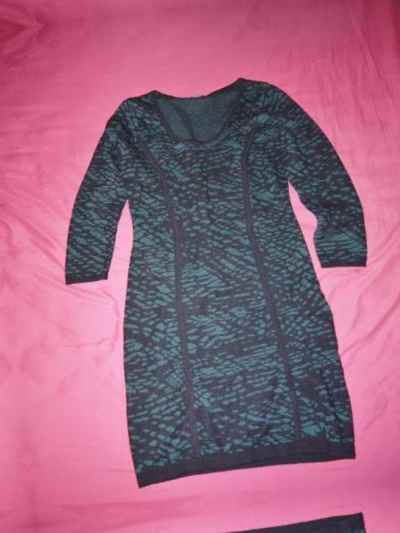Dress: (37, 52, 400, 502), (92, 496, 400, 533)
